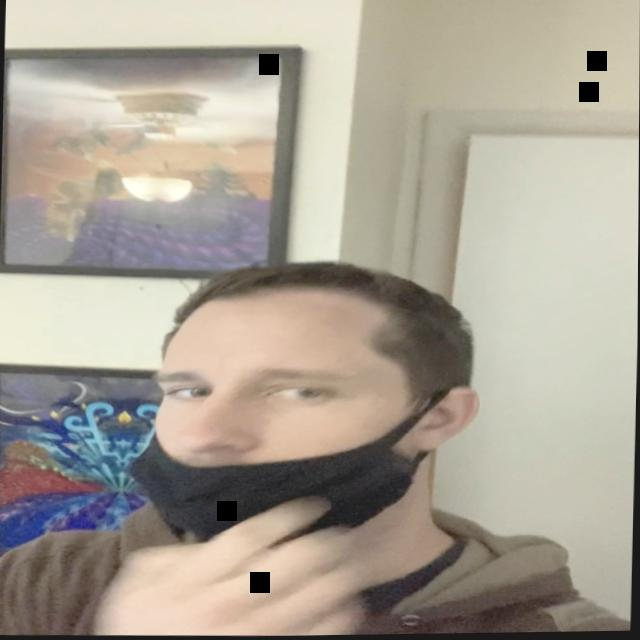Mask: (144, 271, 466, 551)
